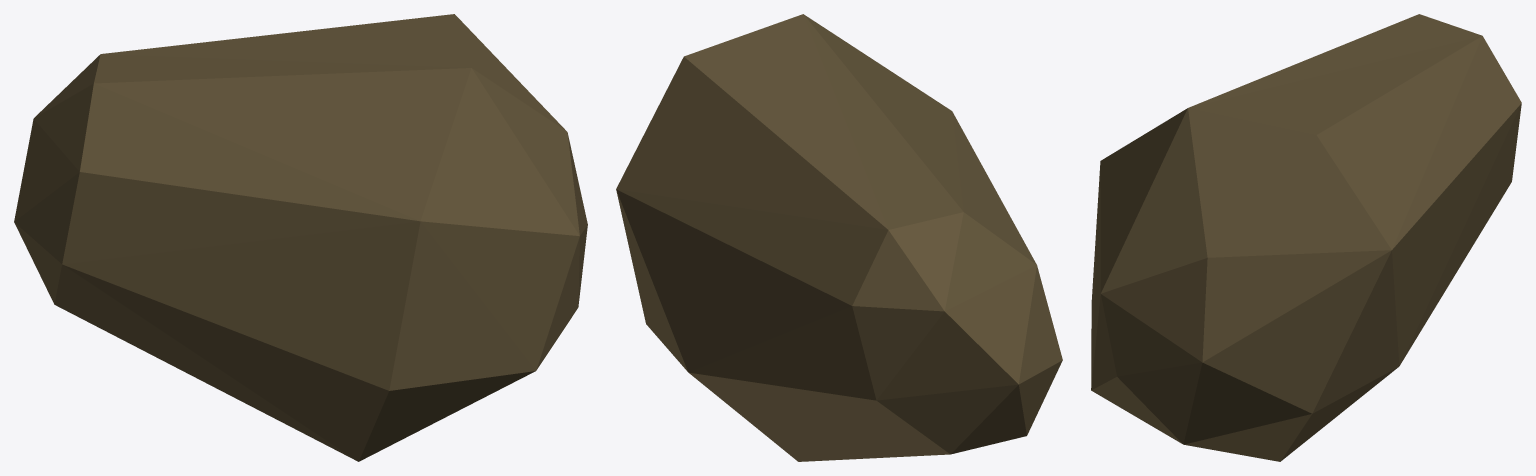
The model's file is ant-trochanter-front-left.dae.
The picture shows the model from 3 angles, left to right: view 1: azimuth 30°, elevation 25°; view 2: azimuth 150°, elevation 25°; view 3: azimuth 270°, elevation 25°; orthographic projection. The views are drawn at different scales.
Parts seen in each view (by area): view 1: ant-femur-trochanter-front-left; view 2: ant-femur-trochanter-front-left; view 3: ant-femur-trochanter-front-left.
Boxes of the visible parts, x1,y1,x2,y2 form: ant-femur-trochanter-front-left: (14,14,587,461); ant-femur-trochanter-front-left: (616,14,1062,461); ant-femur-trochanter-front-left: (1091,14,1521,461).
Size of the model in its own units: 1.38 by 1.13 by 1.08.
